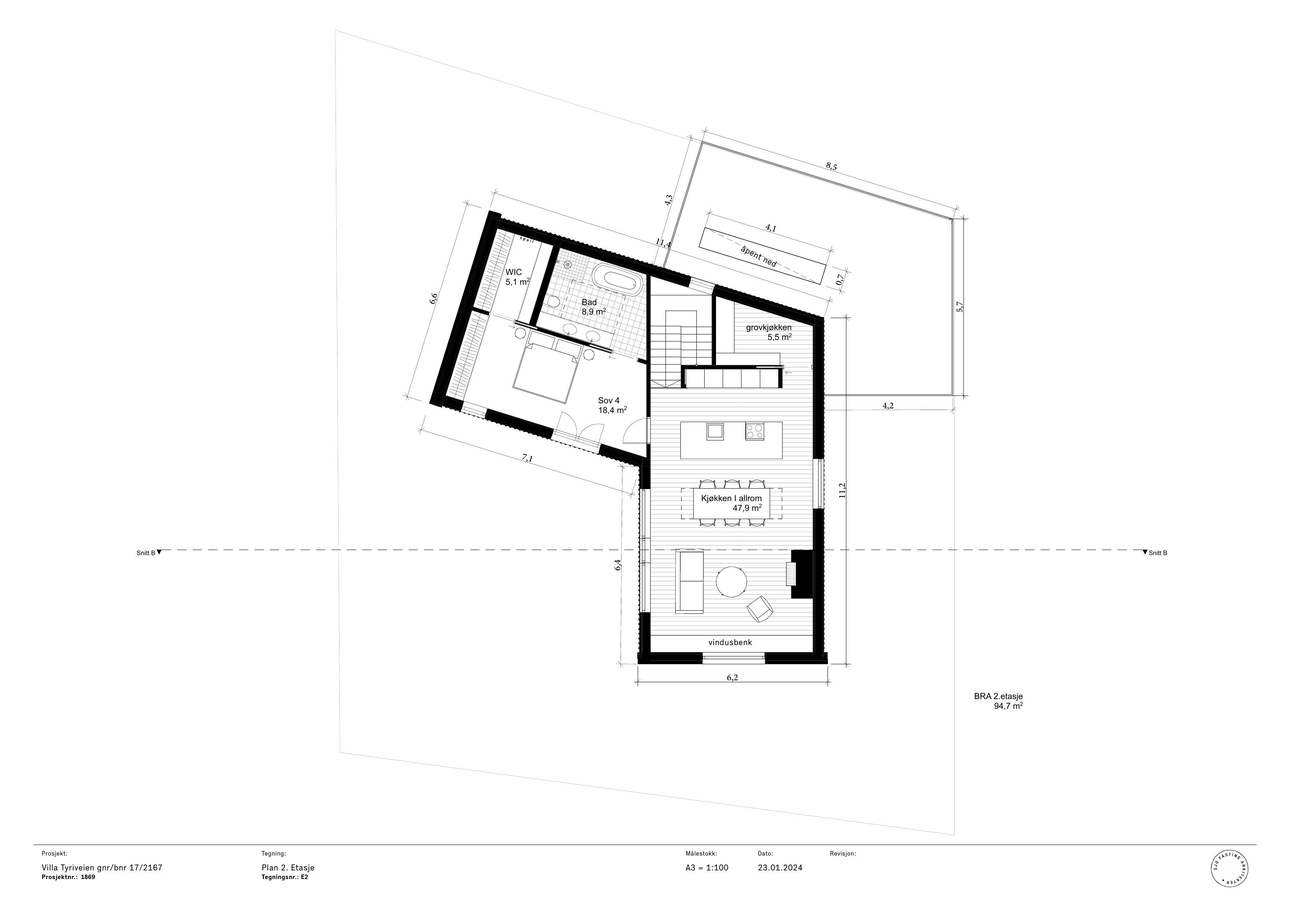plantegning: (430, 144, 954, 664)
